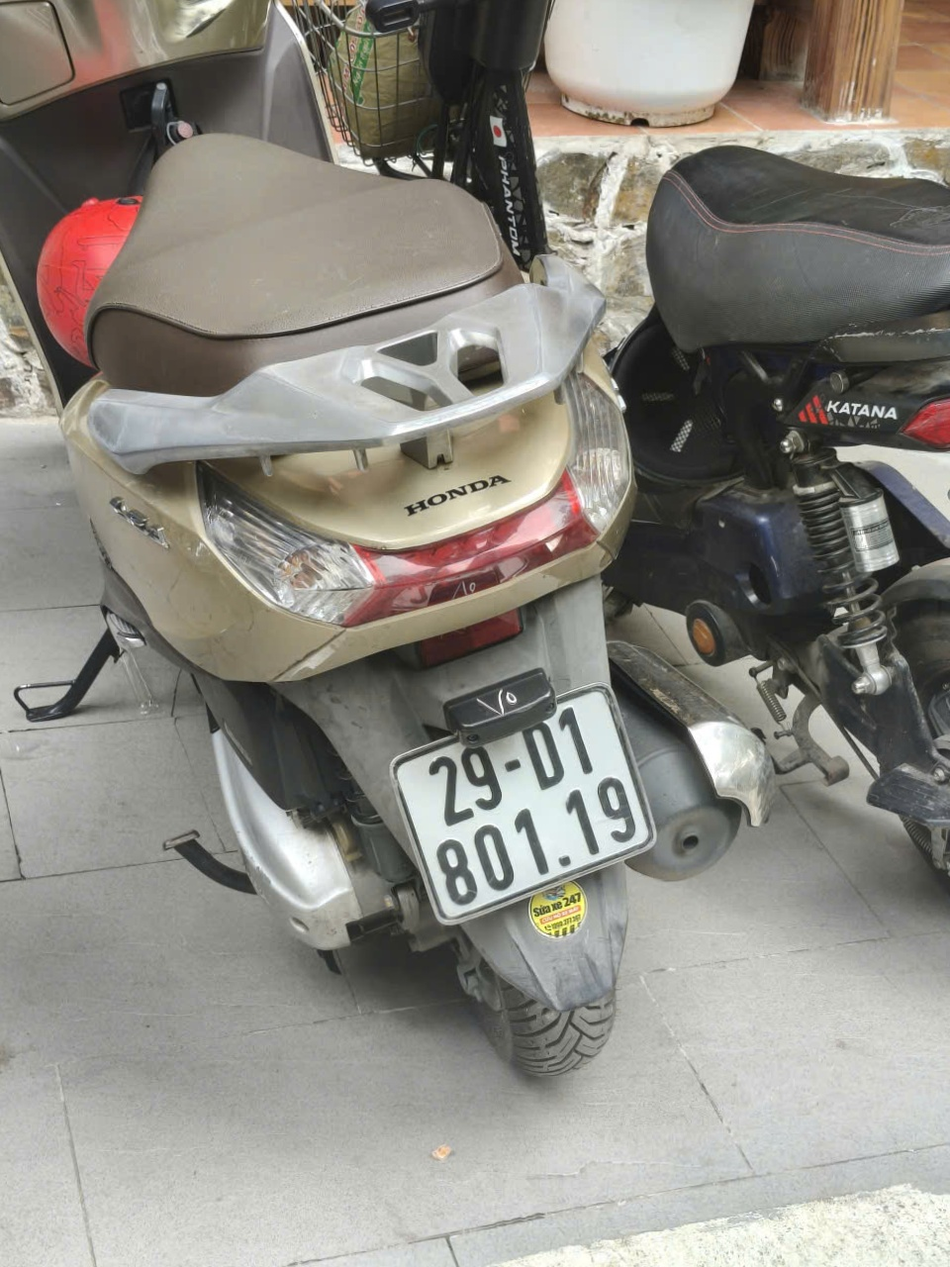plate: (783, 379, 894, 421)
